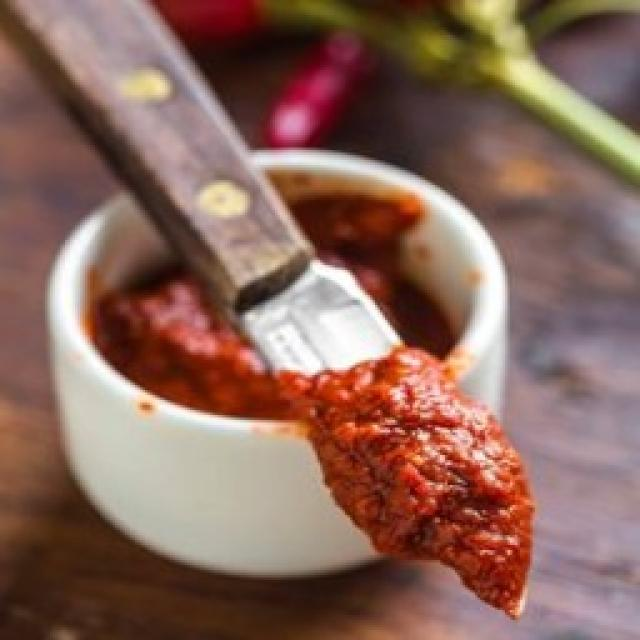Harissa: (115, 235, 538, 620)
